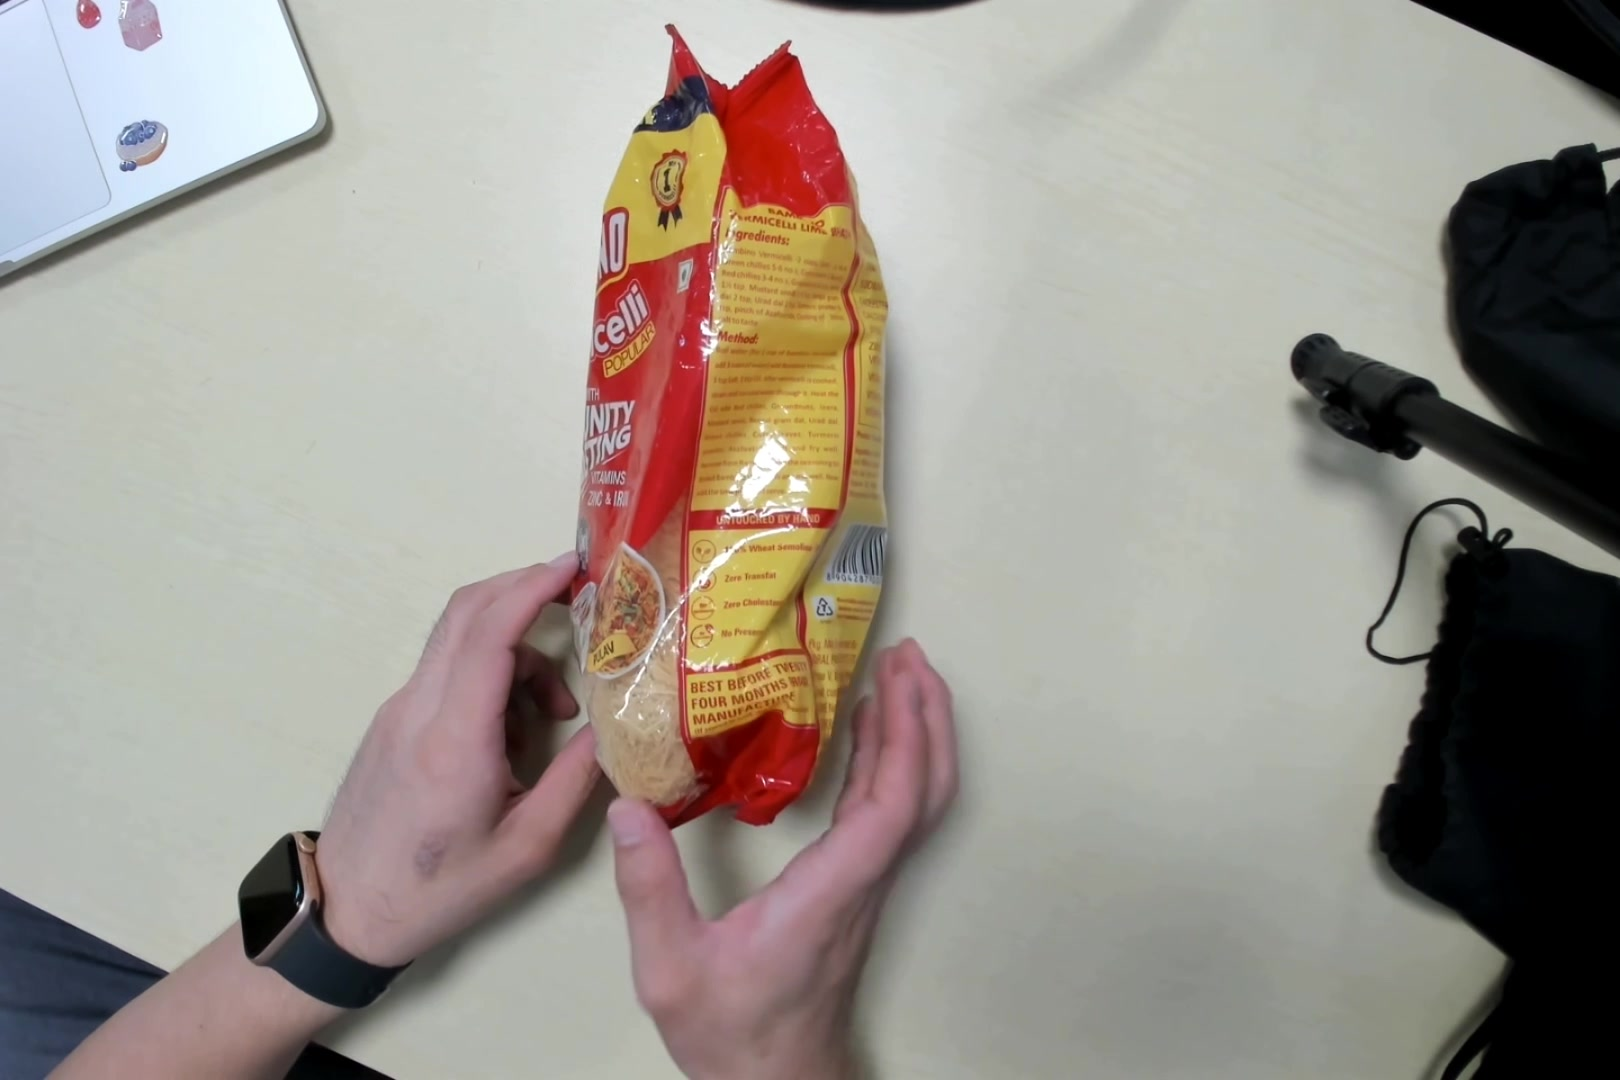OtherNoodles_300-399g_Halal_NonHealthy: (585, 43, 886, 815)
